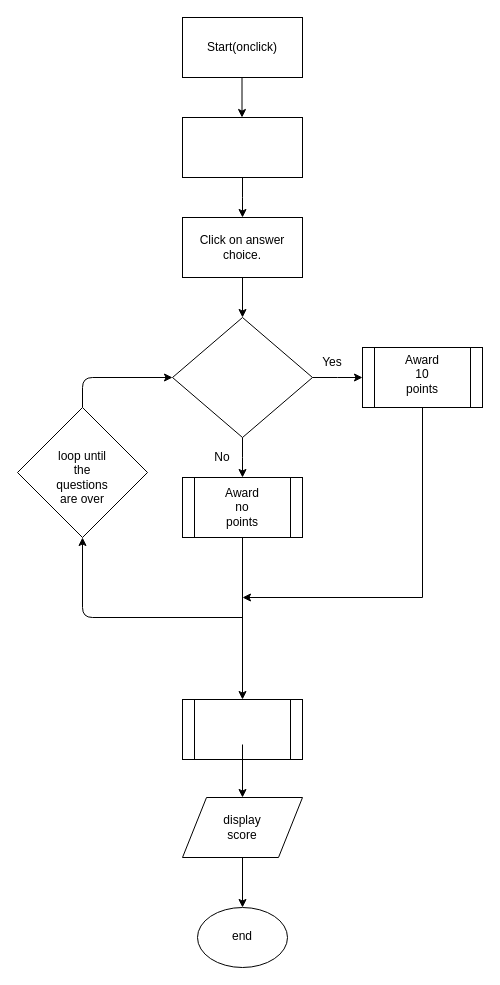
The diagram is 500 pixels wide and 985 high, and some of its shapes have lost their labels. Each missing label, with the box of its shape:
Add total score: (182, 698, 302, 760)
Fetch quiz questions and the choices.: (182, 116, 302, 178)
If answer choice is correct: (172, 316, 312, 438)
